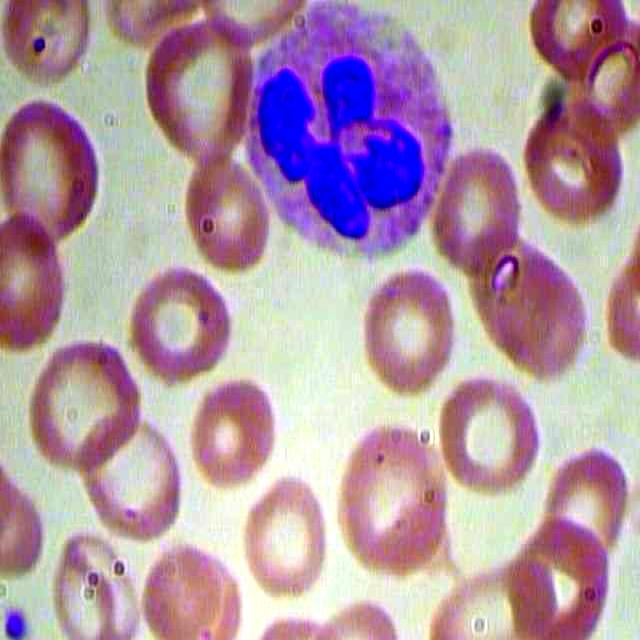RBC: (333, 421, 457, 584), (424, 370, 549, 506), (343, 266, 456, 414), (23, 333, 140, 468), (124, 260, 240, 392), (144, 27, 253, 164), (516, 93, 628, 224), (180, 141, 282, 280), (1, 103, 105, 237), (180, 372, 287, 491), (182, 375, 289, 493), (238, 469, 329, 602), (1, 209, 82, 352), (436, 143, 520, 277)
WBC: (244, 2, 459, 262)
